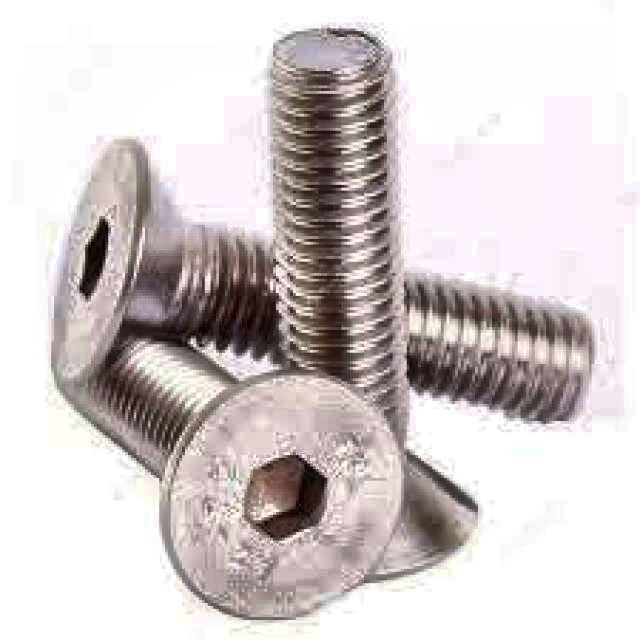allen: (162, 369, 408, 619), (49, 135, 151, 388)
